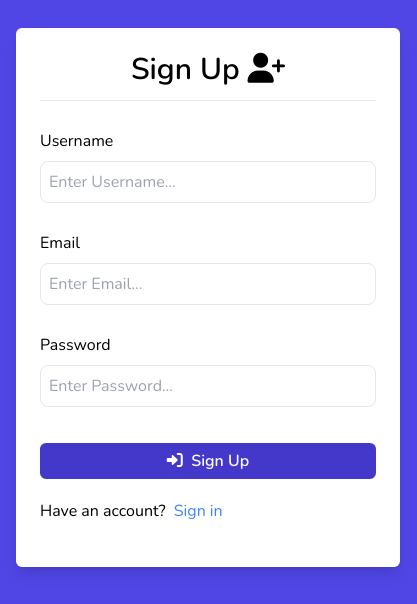
Scenario: SignUp component › displays error message if signup fails
Type "admin" into the field labelled "Username" at (208,182), box [40,160,376,202]
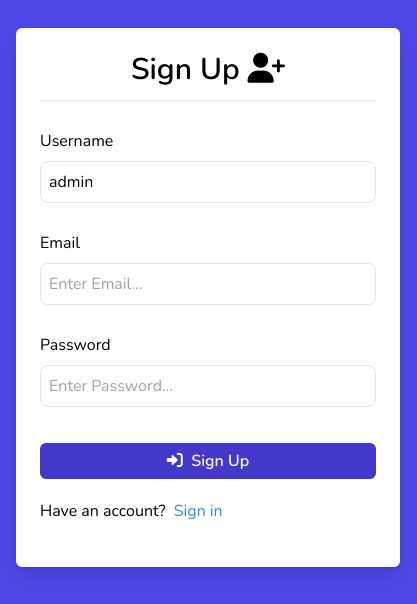
Type "test@example.com" into the field labelled "Email" at (208,284), box [40,262,376,304]
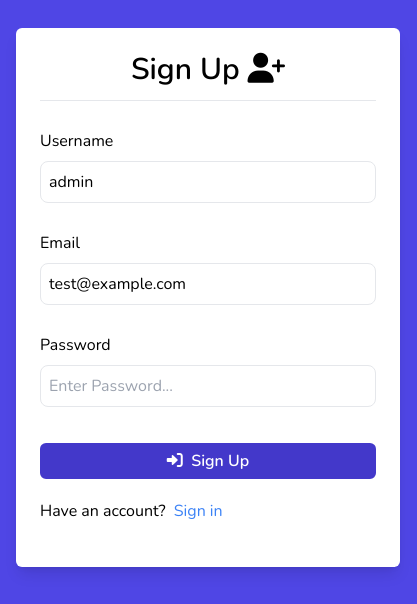
Type "password123" into the password field labelled "Password" at (208,386), box [40,364,376,406]
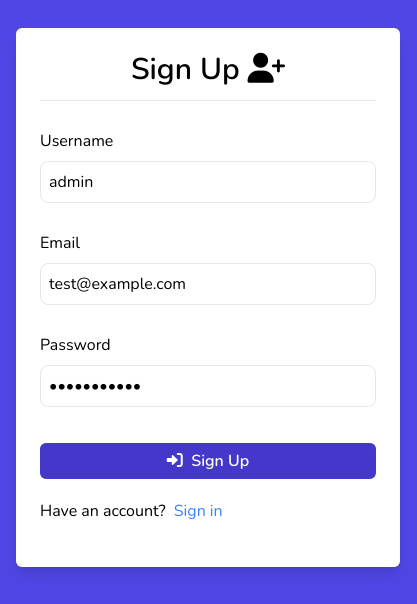
Click the button "Sign Up" at (208,460), box [40,442,376,478]
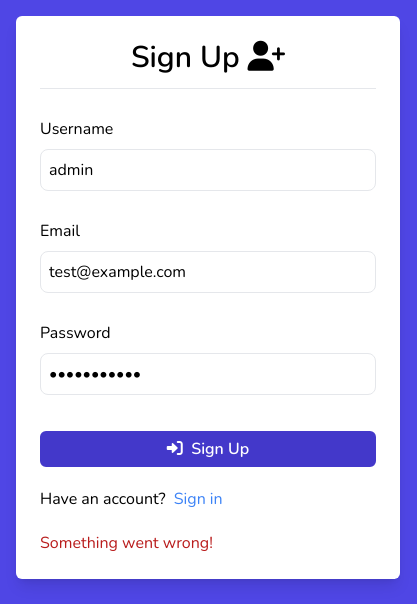
Now the text "Something went wrong!" is shown, box [40,532,213,554]
